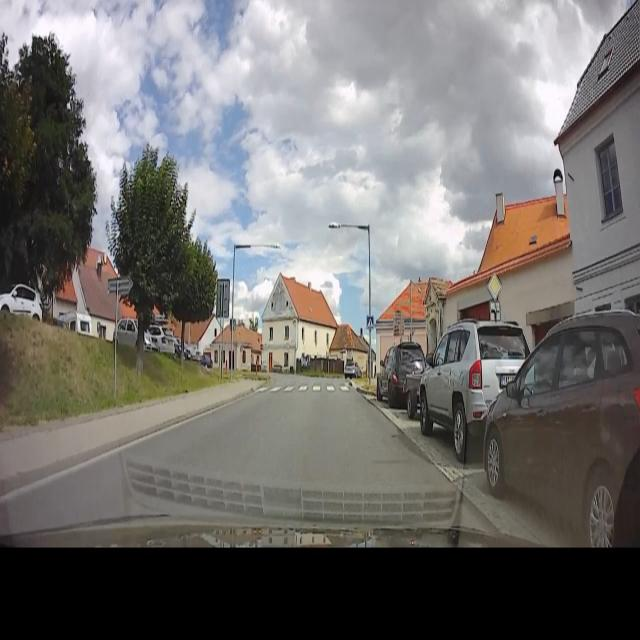Pedestrian crosswalk: (257, 382, 357, 396), (365, 314, 375, 330)
